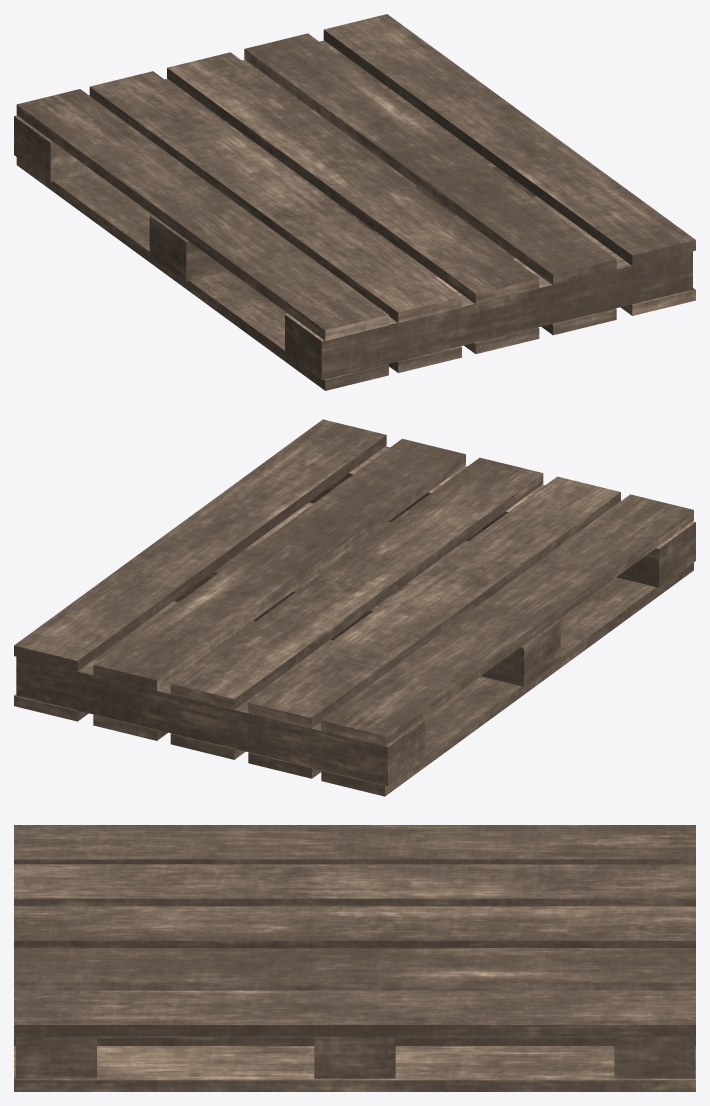
Rendered from pallet.fbx.
3 views of the same model, one above another, from view 1: azimuth 30°, elevation 25°; view 2: azimuth 150°, elevation 25°; view 3: azimuth 270°, elevation 25° (orthographic). The views are drawn at different scales.
Visible parts, largest first — view 1: pallet1; view 2: pallet1; view 3: pallet1.
Part boxes in pixels (x1,y1,x2,y2): pallet1: (14,14,695,390); pallet1: (14,419,695,796); pallet1: (14,825,695,1091).
Bounding box in the file's own units: 296 × 45.8 × 423.
